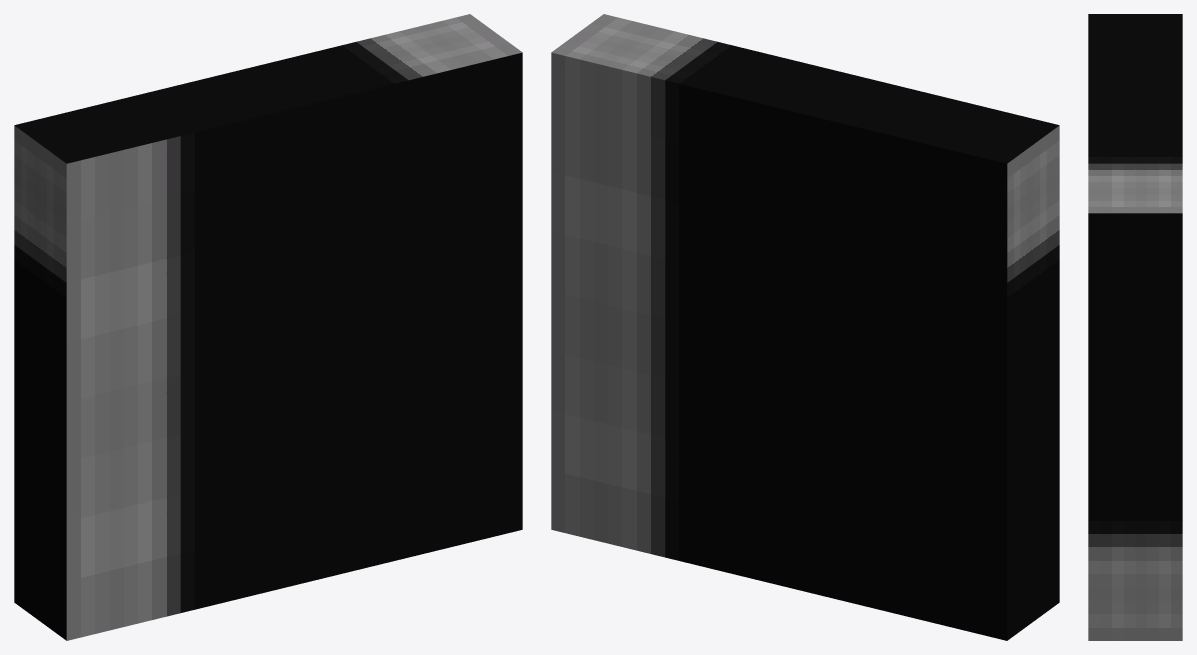
The model's file is shared.glb.
3 views of the same model, side by side, from view 1: azimuth 30°, elevation 25°; view 2: azimuth 150°, elevation 25°; view 3: azimuth 270°, elevation 25° (orthographic). The views are drawn at different scales.
Size of the model in its own units: 25 by 25 by 5.
Materials: 1 (1 with a texture image).
